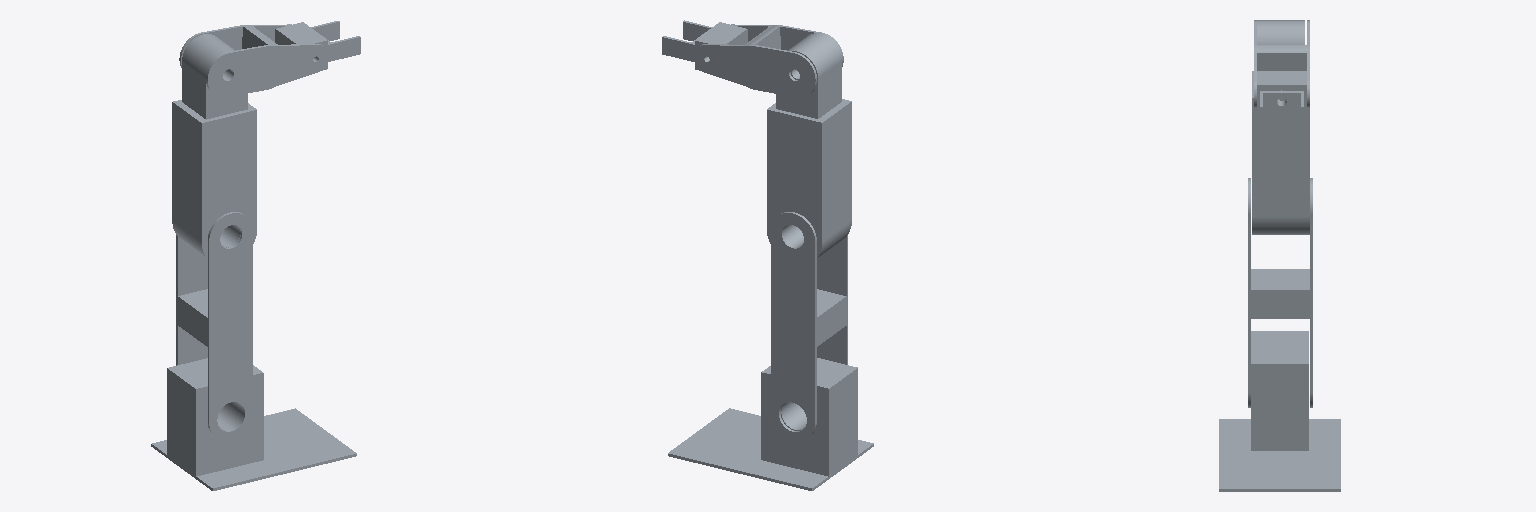
The robot description file, URDF, robot "Robot":
<?xml version="1.0" ?>
<robot name="Robot">
  <!--Generated by RobotCAD, a ROS Workbench for FreeCAD (https://github.com/drfenixion/freecad.robotcad)-->
  <link name="l_Base001">
    <visual>
      <!--Base001/Base001.-->
      <origin rpy="1.5707963267948968 0 -3.141592653589793" xyz="0.0 0.0 0.005"/>
      <geometry>
        <mesh filename="package://urdf_export/meshes/arm_cad_base_kj48jr.dae"/>
      </geometry>
    </visual>
    <collision>
      <!--col__l_Base001__col_Base__BoundBox/col_Base__BoundBox.-->
      <origin rpy="0 0 0" xyz="0.07 0.0 0.0025"/>
      <geometry>
        <box size="0.26 0.192 0.005000000000000001"/>
      </geometry>
    </collision>
  </link>
  <link name="l_Link006">
    <visual>
      <!--Link006/Link001.-->
      <origin rpy="-1.5707963267948963 0 0" xyz="0.0 0.0 0.0"/>
      <geometry>
        <mesh filename="package://urdf_export/meshes/arm_cad_link0_7pttdh.dae"/>
      </geometry>
    </visual>
    <collision>
      <!--col__l_Link006__col_Link0__BoundBox/col_Link0__BoundBox.-->
      <origin rpy="-1.5707963267948963 0 0" xyz="0.0 0.0 -0.0755"/>
      <geometry>
        <box size="0.12200000000000003 0.151 0.09"/>
      </geometry>
    </collision>
  </link>
  <link name="l_Link007">
    <visual>
      <!--Link007/Link002.-->
      <origin rpy="-3.1415926535897927 0 1.5707963267948963" xyz="-0.091 0.0 0.045"/>
      <geometry>
        <mesh filename="package://urdf_export/meshes/arm_cad_link1_el1qd7.dae"/>
      </geometry>
    </visual>
    <collision>
      <!--col__l_Link007__col_Link1__BoundBox/col_Link1__BoundBox.-->
      <origin rpy="-1.570796326794897 -1.5707963267948961 0" xyz="0.0 -0.154992 0.04625"/>
      <geometry>
        <box size="0.1025 0.08 0.389984812280998"/>
      </geometry>
    </collision>
  </link>
  <link name="l_Link008">
    <visual>
      <!--Link008/Link003.-->
      <origin rpy="0 0 1.5707963267948963" xyz="0.091 0.31 0.047"/>
      <geometry>
        <mesh filename="package://urdf_export/meshes/arm_cad_link2_zjndgx.dae"/>
      </geometry>
    </visual>
    <collision>
      <!--col__l_Link008__col_Link2__BoundBox/col_Link2__BoundBox.-->
      <origin rpy="-1.5707963267948968 -1.5707963267948961 0" xyz="0.0 -0.0775 0.046"/>
      <geometry>
        <box size="0.092 0.1 0.25500000000000034"/>
      </geometry>
    </collision>
  </link>
  <link name="l_Link009">
    <visual>
      <!--Link009/Link004.-->
      <origin rpy="1.5390863016400926 -1.5707963267948897 -1.5390863016400926" xyz="-0.001 -0.091 0.515"/>
      <geometry>
        <mesh filename="package://urdf_export/meshes/arm_cad_link3_edo7o8.dae"/>
      </geometry>
    </visual>
    <collision>
      <!--col__l_Link009__col_Link3__BoundBox/col_Link3__BoundBox.-->
      <origin rpy="0 0 0" xyz="0.0 0.0 -0.0537429"/>
      <geometry>
        <box size="0.075 0.075 0.10748576151343571"/>
      </geometry>
    </collision>
  </link>
  <link name="l_Link010">
    <visual>
      <!--Link010/Link005.-->
      <origin rpy="3.141592653589793 0 0.06108652381981069" xyz="0.578353 0.126544 0.0365"/>
      <geometry>
        <mesh filename="package://urdf_export/meshes/arm_cad_link4_rbcbnv.dae"/>
      </geometry>
    </visual>
    <collision>
      <!--col__l_Link010__col_Link4__BoundBox/col_Link4__BoundBox.-->
      <origin rpy="1.5707963267948963 0 0" xyz="-0.072108 -0.00220552 0.039"/>
      <geometry>
        <box size="0.21919360070894503 0.088 0.07941104040710273"/>
      </geometry>
    </collision>
  </link>
  <link name="l_Link011">
    <visual>
      <!--Link011/Link006.-->
      <origin rpy="-3.141592653589793 0 0" xyz="0.743 0.091 -0.0415"/>
      <geometry>
        <mesh filename="package://urdf_export/meshes/arm_cad_link5_pga2bj.dae"/>
      </geometry>
    </visual>
    <collision>
      <!--col__l_Link011__col_Link5__BoundBox/col_Link5__BoundBox.-->
      <origin rpy="3.1415926535897927 -1.5707963267948963 0" xyz="0.0 0.0 -0.039"/>
      <geometry>
        <box size="0.078 0.05000000000000002 0.050000000000000114"/>
      </geometry>
    </collision>
  </link>
  <link name="l_Claw001">
    <visual>
      <!--Claw001/Claw001.-->
      <origin rpy="1.6341527345556497 -1.5707963267948897 -1.6341527345556497" xyz="-0.0025 -0.091 0.768"/>
      <geometry>
        <mesh filename="package://urdf_export/meshes/arm_cad_claw_15ag4t.dae"/>
      </geometry>
    </visual>
    <collision>
      <!--col__l_Claw001__col_Claw__BoundBox/col_Claw__BoundBox.-->
      <origin rpy="0 1.5707963267948961 0" xyz="0.0 0.0 -0.0305"/>
      <geometry>
        <box size="0.061 0.030000000000000013 0.07"/>
      </geometry>
    </collision>
  </link>
  <joint name="l_Base001__to__l_Link006" type="revolute">
    <parent link="l_Base001"/>
    <child link="l_Link006"/>
    <origin rpy="3.141592653589793 0 0" xyz="0.0 0.0 0.005"/>
    <axis xyz="0 0 1"/>
    <limit effort="0.0" lower="-3.141592653589793" upper="3.141592653589793" velocity="3.141592653589793"/>
  </joint>
  <joint name="l_Link006__to__l_Link007" type="revolute">
    <parent link="l_Link006"/>
    <child link="l_Link007"/>
    <origin rpy="1.5707963267948968 0 0" xyz="0.0 0.045 -0.091"/>
    <axis xyz="0 0 1"/>
    <limit effort="0.0" lower="-1.5707963267948966" upper="1.5707963267948966" velocity="3.141592653589793"/>
  </joint>
  <joint name="l_Link007__to__l_Link008" type="revolute">
    <parent link="l_Link007"/>
    <child link="l_Link008"/>
    <origin rpy="-3.141592653589793 0 3.1415926535897927" xyz="0.0 -0.31 0.0925"/>
    <axis xyz="0 0 1"/>
    <limit effort="0.0" lower="-1.5707963267948966" upper="1.5707963267948966" velocity="3.141592653589793"/>
  </joint>
  <joint name="l_Link008__to__l_Link009" type="revolute">
    <parent link="l_Link008"/>
    <child link="l_Link009"/>
    <origin rpy="-1.5707963267948901 -1.5707963267948966 0" xyz="0.0 -0.205 0.046"/>
    <axis xyz="0 0 1"/>
    <limit effort="0.0" lower="-3.141592653589793" upper="3.141592653589793" velocity="3.141592653589793"/>
  </joint>
  <joint name="l_Link009__to__l_Link010" type="revolute">
    <parent link="l_Link009"/>
    <child link="l_Link010"/>
    <origin rpy="-1.5707963267948966 0 1.5707963267948963" xyz="0.0375 0.0 -0.07"/>
    <axis xyz="0 0 1"/>
    <limit effort="0.0" lower="-3.141592653589793" upper="0.0" velocity="3.141592653589793"/>
  </joint>
  <joint name="l_Link010__to__l_Link011" type="revolute">
    <parent link="l_Link010"/>
    <child link="l_Link011"/>
    <origin rpy="0 0 0" xyz="-0.157705 -0.00964567 0.078"/>
    <axis xyz="0 0 1"/>
    <limit effort="0.0" lower="-1.5707963267948966" upper="1.5707963267948966" velocity="3.141592653589793"/>
  </joint>
  <joint name="l_Link011__to__l_Claw001" type="revolute">
    <parent link="l_Link011"/>
    <child link="l_Claw001"/>
    <origin rpy="-3.141592653589793 -1.5707963267948961 0" xyz="-0.025 0.0 -0.039"/>
    <axis xyz="0 0 1"/>
    <limit effort="0.0" lower="-3.141592653589793" upper="3.141592653589793" velocity="3.141592653589793"/>
  </joint>
</robot>

--- Render facts (derived) ---
The picture shows the robot from 3 angles, left to right: view 1: azimuth 30°, elevation 25°; view 2: azimuth 150°, elevation 25°; view 3: azimuth 270°, elevation 25°; orthographic projection.
Model Robot with 8 links and 7 joints (7 revolute), rooted at l_Base001, posed every joint at zero.
Visible links, largest first — view 1: l_Link007, l_Link008, l_Link006, l_Link010, l_Base001, l_Link009, l_Claw001, l_Link011; view 2: l_Link007, l_Link008, l_Link006, l_Link010, l_Base001, l_Link009, l_Claw001, l_Link011; view 3: l_Link008, l_Base001, l_Link006, l_Link007, l_Link010, l_Link011, l_Link009, l_Claw001.
Boxes of the visible links, x1,y1,x2,y2 form: l_Link007: (176,212,252,440); l_Link008: (172,100,256,258); l_Link006: (167,358,263,476); l_Link010: (179,24,328,96); l_Base001: (151,408,356,490); l_Link009: (182,34,247,119); l_Claw001: (311,21,360,61); l_Link011: (275,22,327,70); l_Link007: (771,212,847,440); l_Link008: (767,99,851,258); l_Link006: (761,358,857,476); l_Link010: (694,24,843,97); l_Base001: (668,408,873,490); l_Link009: (776,33,841,118); l_Claw001: (662,20,711,61); l_Link011: (695,22,747,70); l_Link008: (1252,71,1309,234); l_Base001: (1219,419,1340,491); l_Link006: (1251,331,1308,450); l_Link007: (1248,178,1312,407); l_Link010: (1254,20,1309,107); l_Link011: (1257,71,1306,113); l_Link009: (1257,20,1304,44); l_Claw001: (1260,90,1303,123).
Size in the robot's own frame: 0.3047 by 0.192 by 0.7185 metres.
Meshes: 8 distinct files referenced, 8 mesh visuals loaded (8 Collada DAE).